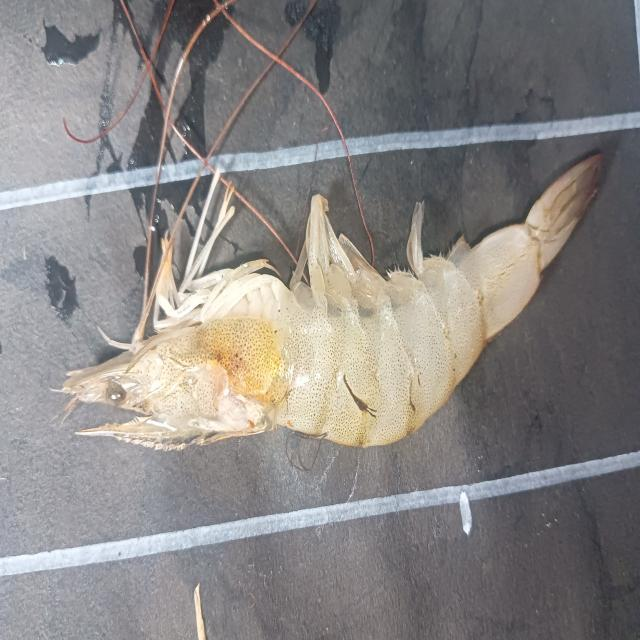shrimp: (61, 155, 602, 449)
